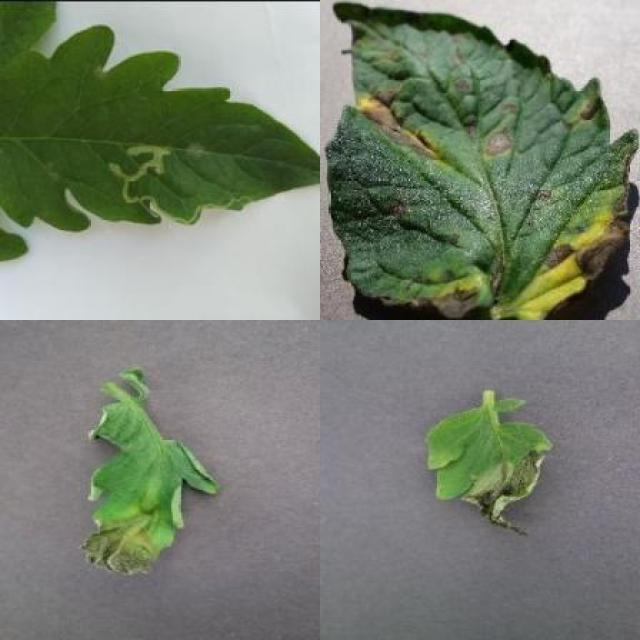Early Blight: (328, 3, 640, 320)
Late Blight: (82, 397, 219, 579), (425, 397, 555, 539)
Leaf Miner: (0, 25, 320, 232)
